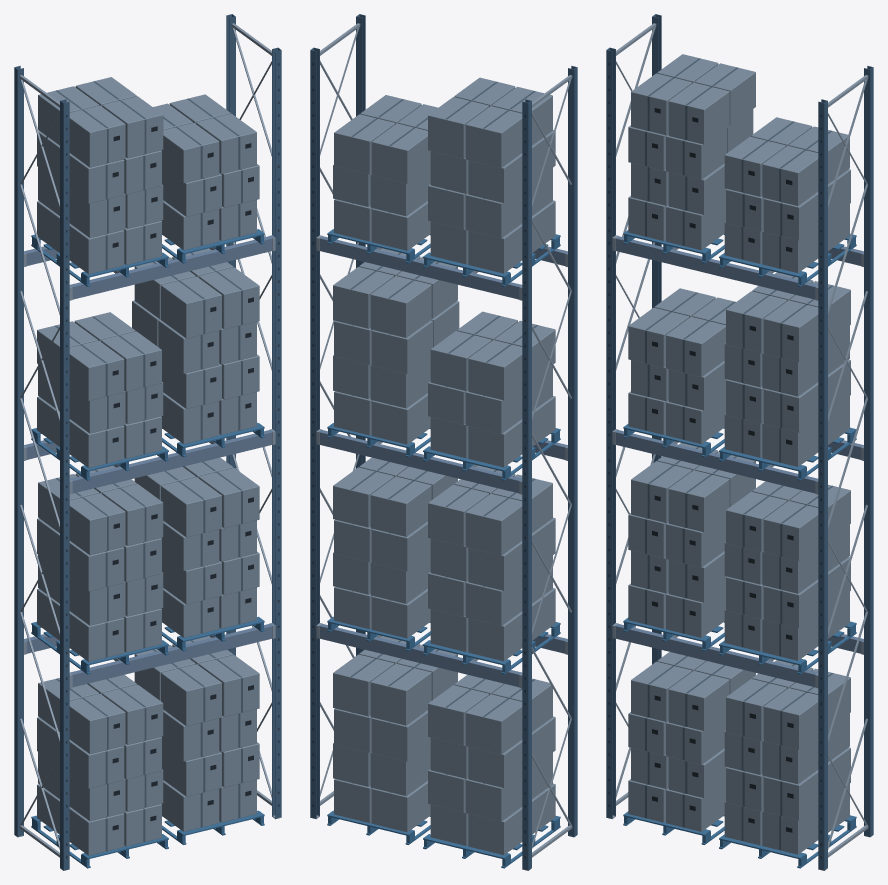
Rendered from SM_GHS_V2Rack_A_W27219.fbx.
The picture shows the model from 3 angles, left to right: view 1: azimuth 30°, elevation 25°; view 2: azimuth 150°, elevation 25°; view 3: azimuth 330°, elevation 25°; orthographic projection.
Parts seen in each view (by area): view 1: SM_GHS_V2Rack_A_W27219; view 2: SM_GHS_V2Rack_A_W27219; view 3: SM_GHS_V2Rack_A_W27219.
Boxes of the visible parts, box(x1,y1,x2,y2) form: SM_GHS_V2Rack_A_W27219: box(14, 14, 281, 870); SM_GHS_V2Rack_A_W27219: box(310, 14, 577, 870); SM_GHS_V2Rack_A_W27219: box(606, 14, 873, 870).
Size of the model in its own units: 272 by 122 by 915.
